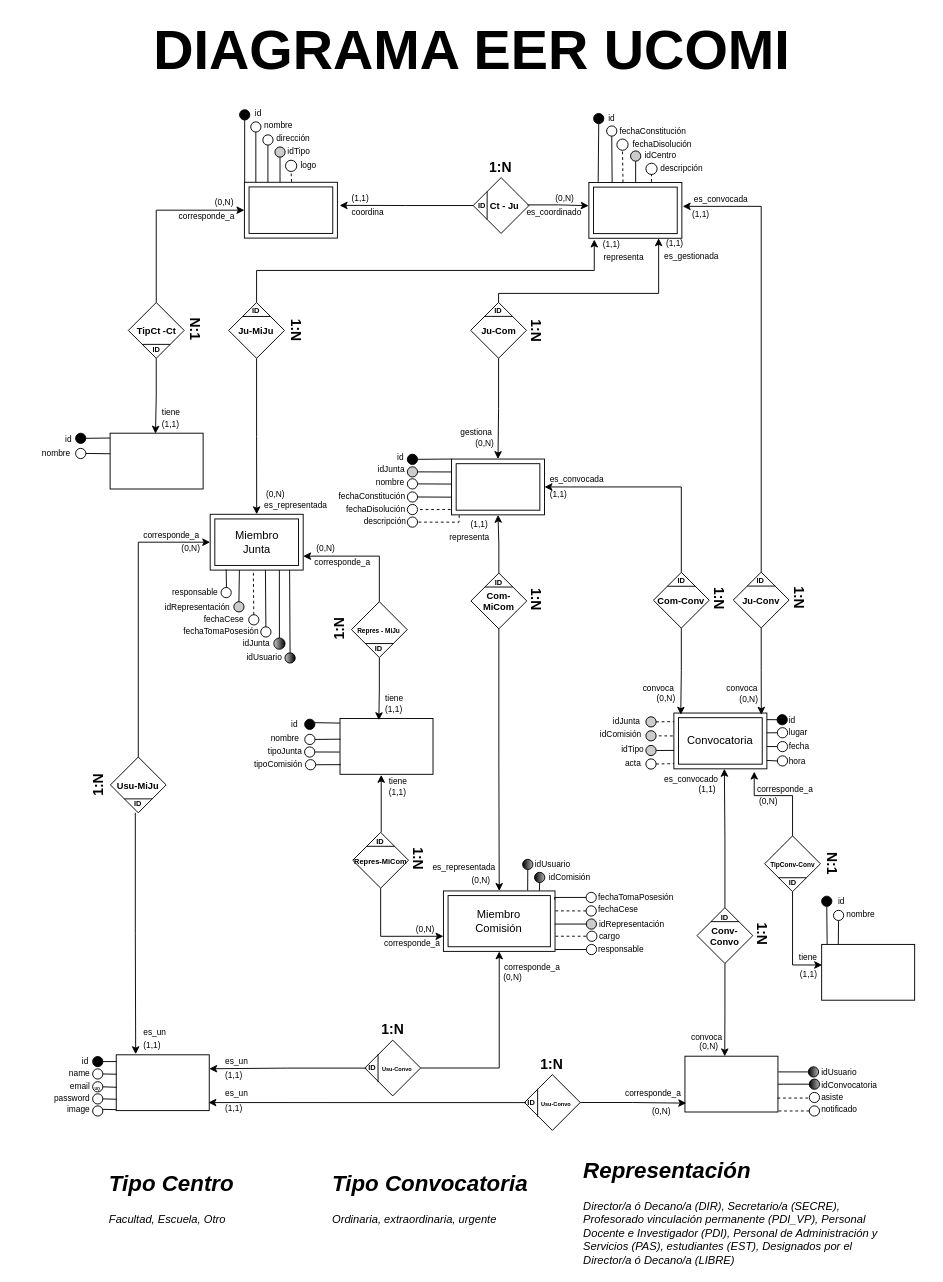
This 943x1282 diagram has some shape labels left out. Here are the shapes that lost their labels. From the top down, the centre of each, then its label:
[290,209]: Centro
[635,210]: Junta
[156,460]: Tipo Centro
[498,486]: Comisión
[386,746]: Representación
[868,971]: Tipo Convocatoria
[162,1082]: Usuario
[731,1083]: Convocado
